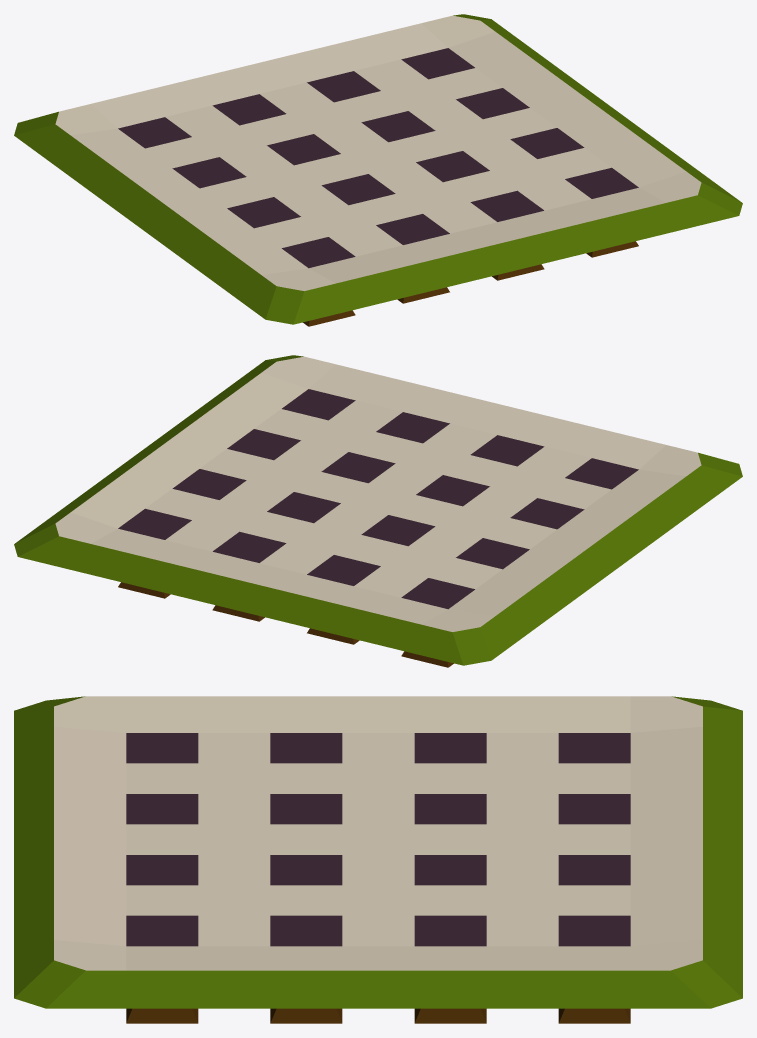
File: Trap_littleBlades.fbx
The picture shows the model from 3 angles, top to bottom: view 1: azimuth 30°, elevation 25°; view 2: azimuth 150°, elevation 25°; view 3: azimuth 270°, elevation 25°; orthographic projection. The views are drawn at different scales.
Parts seen in each view (by area): view 1: Trap, Blades; view 2: Trap, Blades; view 3: Trap, Blades.
Boxes of the visible parts, box(x1,y1,x2,y2) form: Trap: box(14, 14, 742, 324); Blades: box(303, 241, 638, 326); Trap: box(14, 355, 742, 665); Blades: box(118, 582, 453, 667); Trap: box(14, 696, 742, 1008); Blades: box(126, 1008, 630, 1023).
Bounding box in the file's own units: 1 × 0.1266 × 1.
